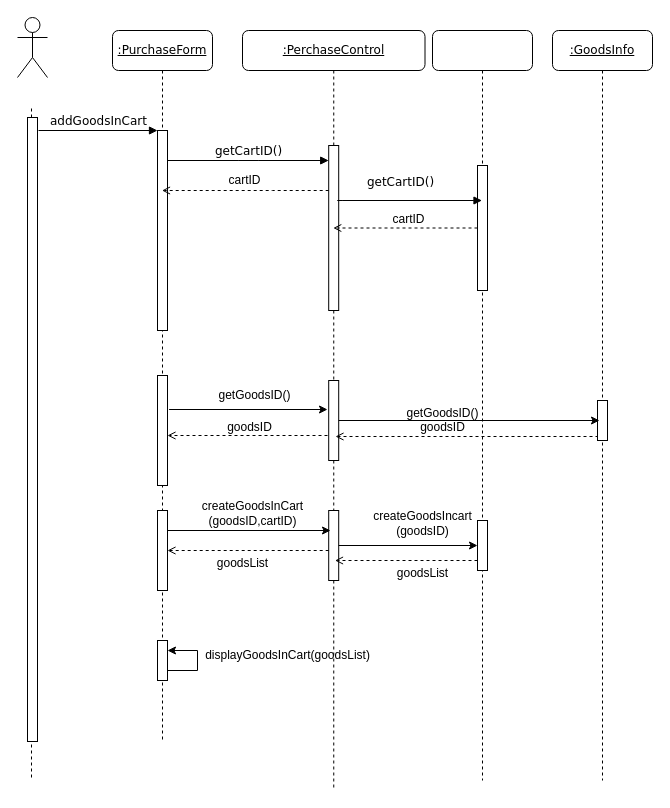
The diagram is 670 pixels wide and 808 high, and some of its shapes have lost their labels. The box of each missing label's shape, as (x1, y1, x2, y2) in pixels:
:CartInfo: (432, 30, 532, 780)
User: (16, 16, 48, 78)
